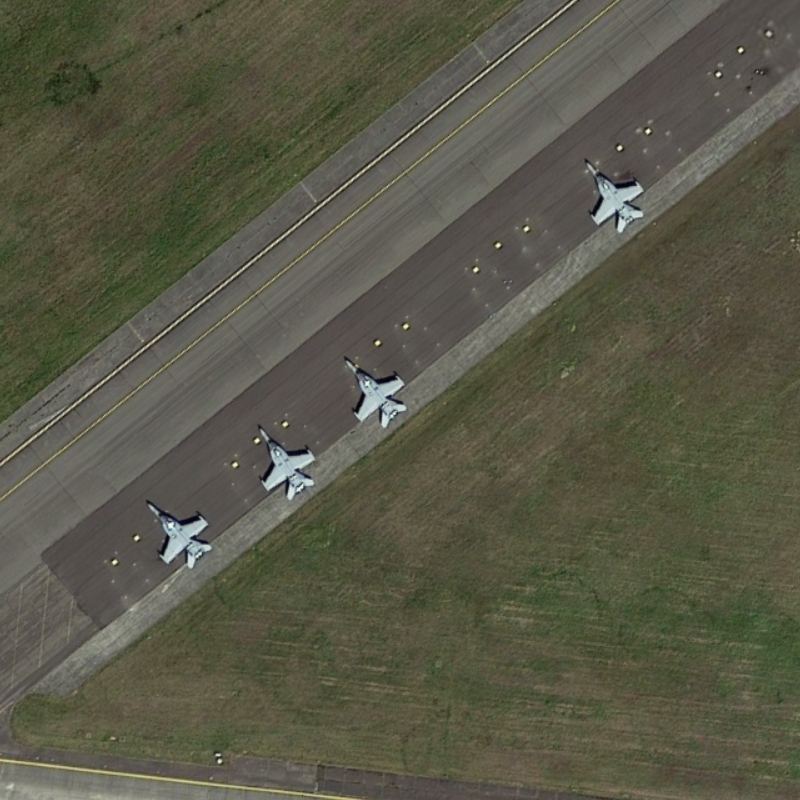A16: (576, 150, 657, 235), (142, 490, 219, 572), (342, 349, 415, 432), (252, 420, 325, 503)
